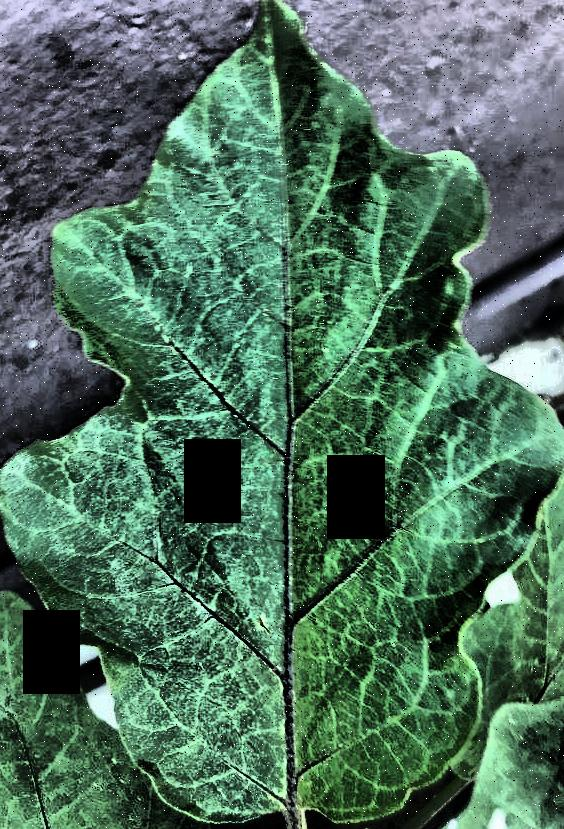HEALTHY: (1, 0, 564, 829)
